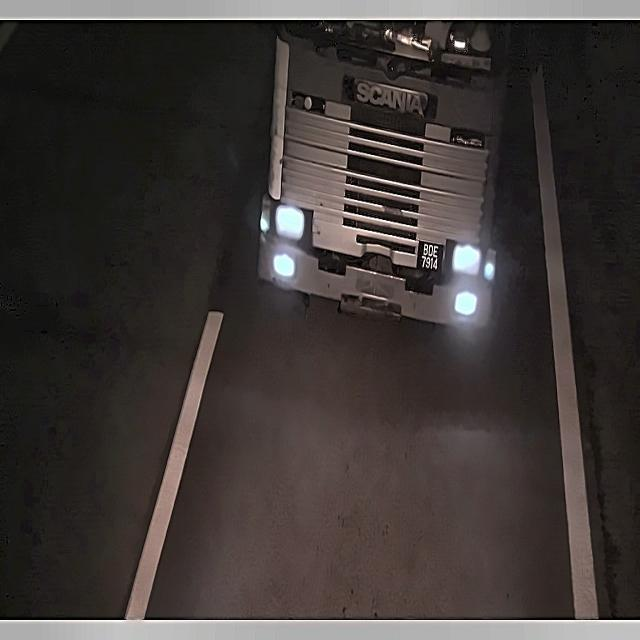car: (413, 232, 448, 280)
